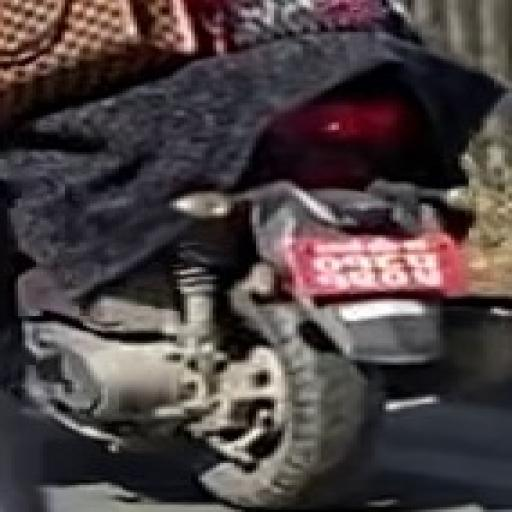license_plate: (272, 230, 470, 300)
